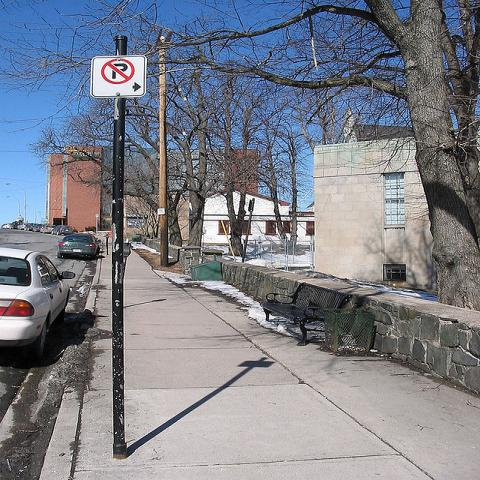car: (1, 248, 75, 360), (57, 234, 103, 260), (51, 224, 73, 236), (40, 225, 57, 233), (24, 223, 36, 231), (33, 224, 44, 232), (9, 222, 21, 229), (1, 223, 12, 229)
